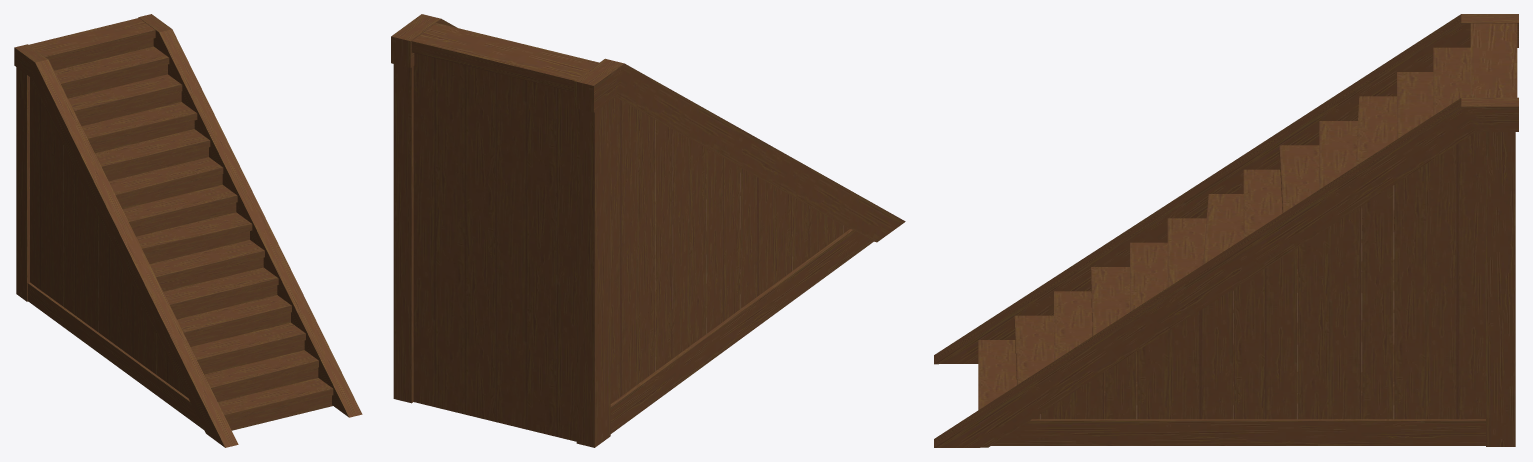
Rendered from stair_interior_solid.glb.
The picture shows the model from 3 angles, left to right: view 1: azimuth 30°, elevation 25°; view 2: azimuth 150°, elevation 25°; view 3: azimuth 270°, elevation 25°; orthographic projection. The views are drawn at different scales.
Bounding box in the file's own units: 1.77 × 3.05 × 4.71.
Materials: 1 (1 with a texture image).
